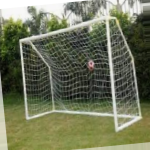goals: (14, 13, 143, 134)
